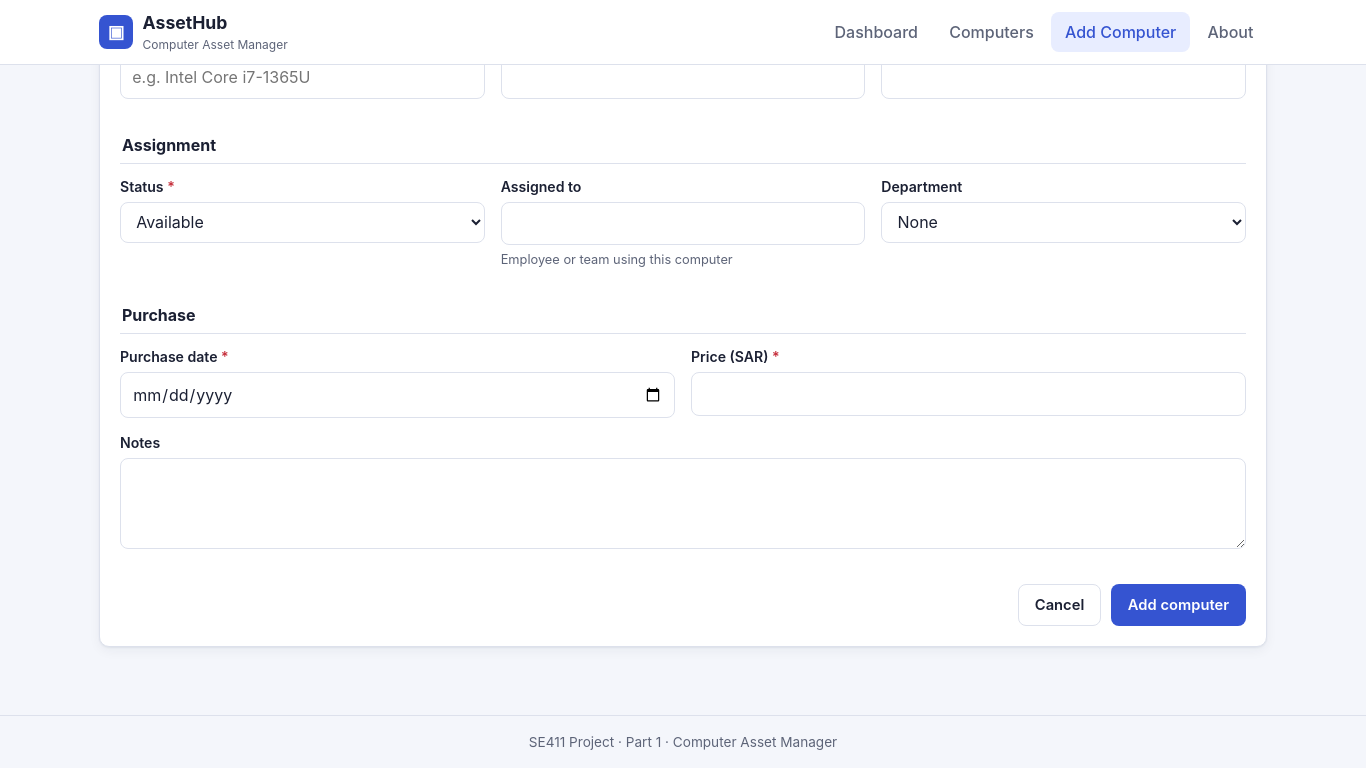
Test: add computer › shows validation errors and does not save invalid data
(page scrolled)
Click the button "Add computer". click: point(1178, 605)
box: [1111,584,1246,626]
(page scrolled)
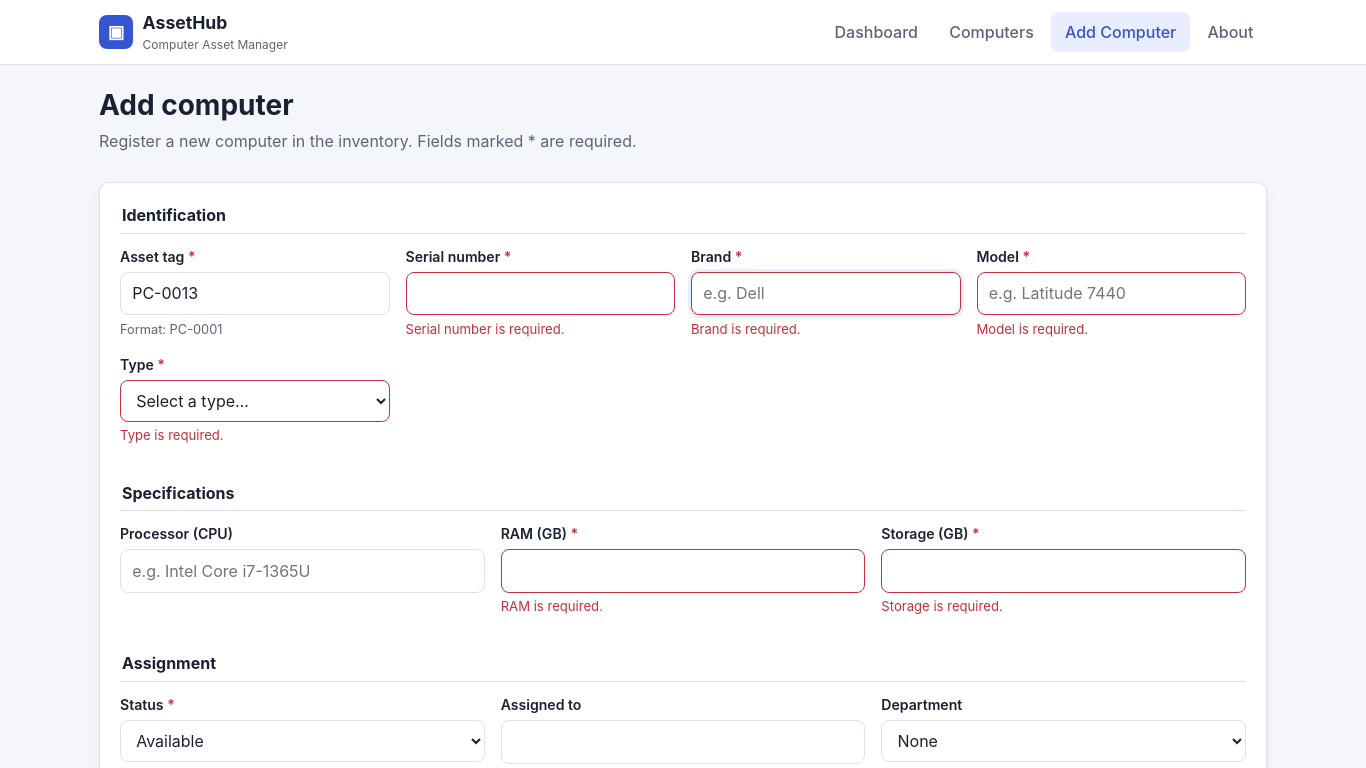
Expected: the heading "Add computer" is shown, [99,88,294,122]
Expected: the text "Brand is required." is shown, [691,321,801,337]
Expected: the text "Serial number is required." is shown, [406,321,565,337]
